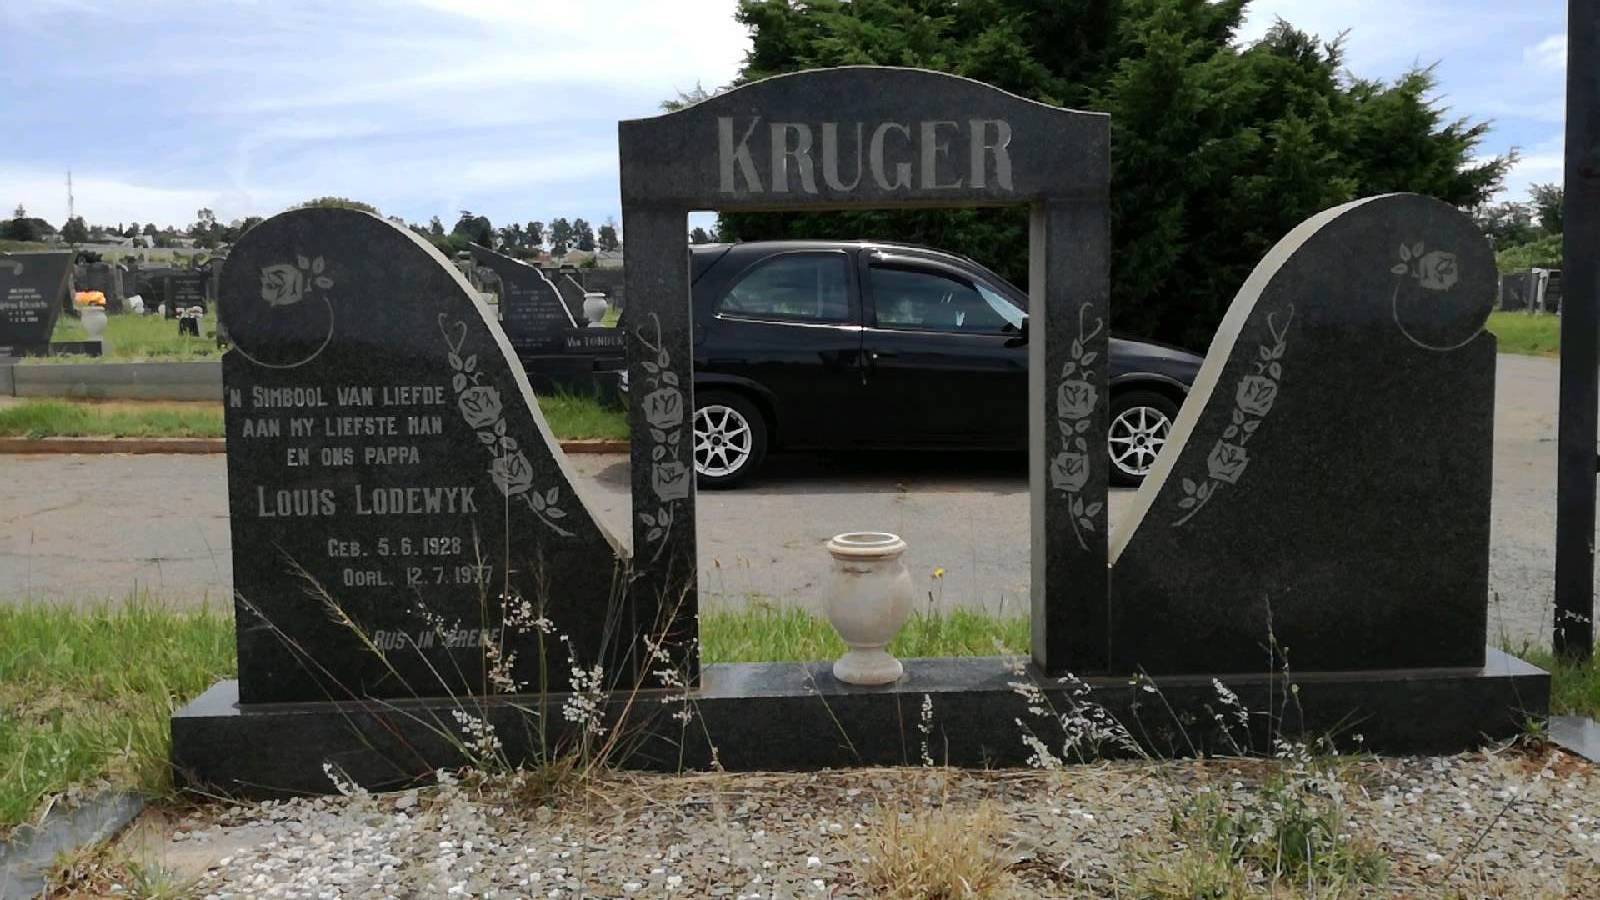upright: (146, 27, 1560, 793)
